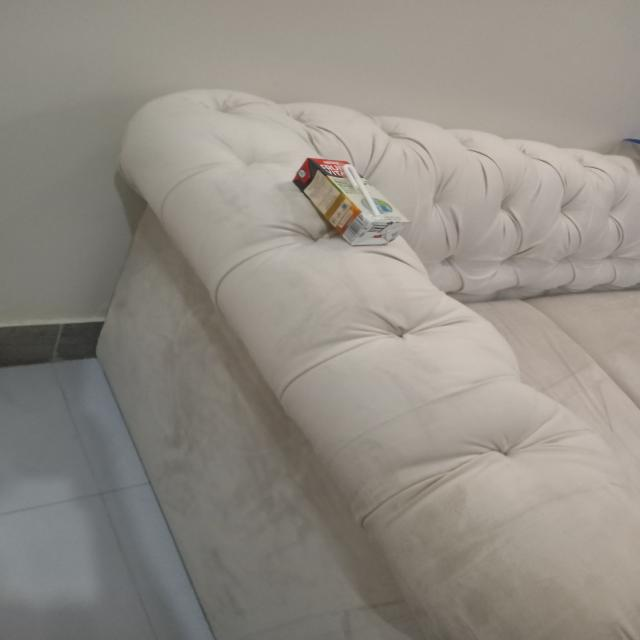Plastic: (290, 152, 414, 248)
